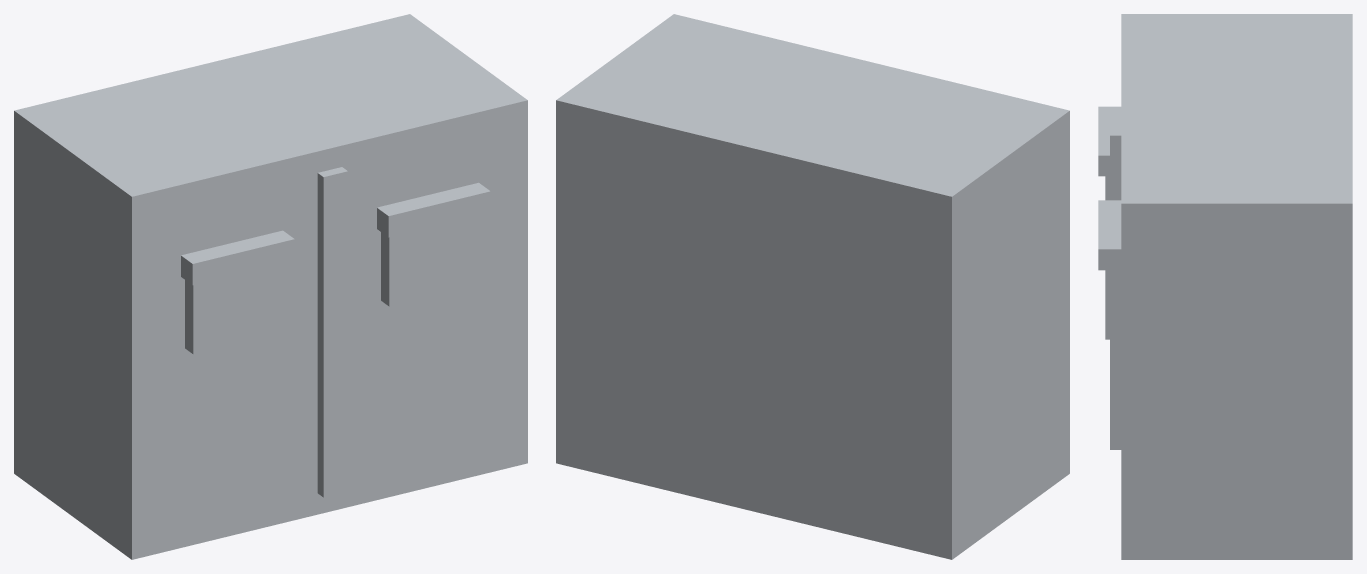
File: npc_crew_upper_torso.fbx
3 views of the same model, side by side, from view 1: azimuth 30°, elevation 25°; view 2: azimuth 150°, elevation 25°; view 3: azimuth 270°, elevation 25° (orthographic).
Visible parts, largest first — view 1: npc_crew_upper_torso; view 2: npc_crew_upper_torso; view 3: npc_crew_upper_torso.
Part boxes in pixels (x1=…): npc_crew_upper_torso: x1=14, y1=14, x2=527, y2=559; npc_crew_upper_torso: x1=556, y1=14, x2=1069, y2=559; npc_crew_upper_torso: x1=1098, y1=14, x2=1352, y2=559.
Bounding box in the file's own units: 194 × 170 × 110.
